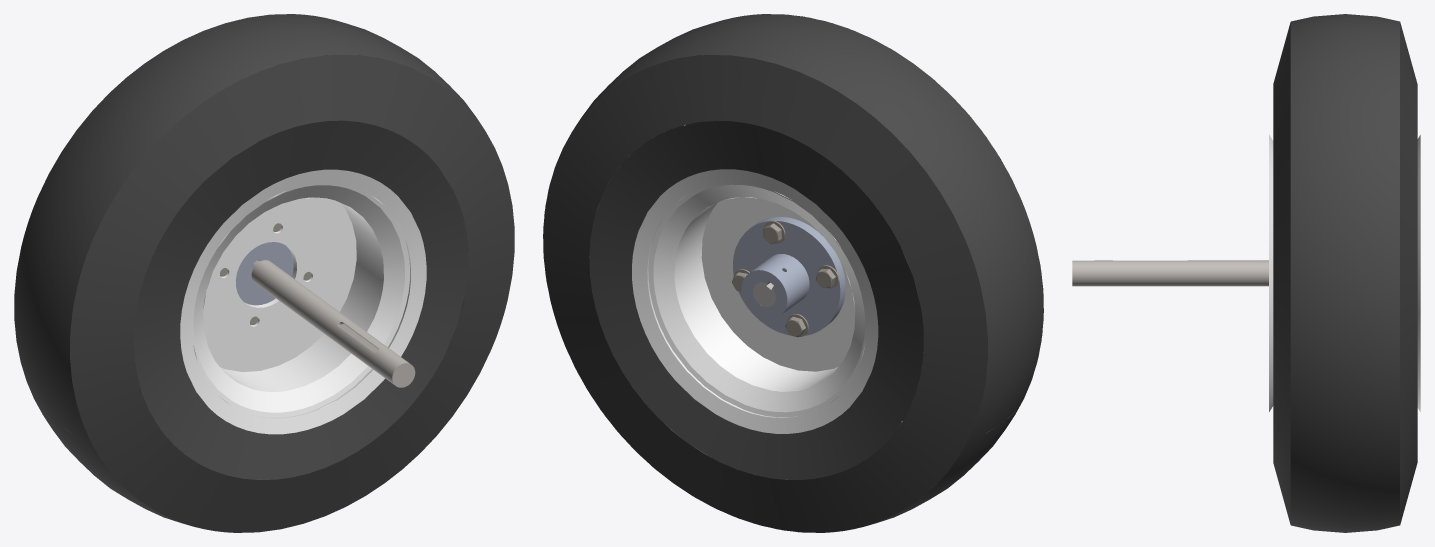
File: back_left_wheel_link.DAE
3 views of the same model, side by side, from view 1: azimuth 30°, elevation 25°; view 2: azimuth 150°, elevation 25°; view 3: azimuth 270°, elevation 25° (orthographic).
Visible parts, largest first — view 1: Revolution1_2_-DC_Shell, Revolution1_1_-DC_Shell, Mirror1-DC_Shell, Extrusion4-DC_Shell, Cut-Extrude4-DC_Shell; view 2: Revolution1_2_-DC_Shell, Revolution1_1_-DC_Shell, Mirror1-DC_Shell, Cut-Extrude4-DC_Shell; view 3: Revolution1_2_-DC_Shell, Revolution1_1_-DC_Shell, Extrusion4-DC_Shell, Mirror1-DC_Shell.
Part boxes in pixels (box(x1,y1,x2,y2)): Revolution1_2_-DC_Shell: box(14, 14, 494, 439); Revolution1_1_-DC_Shell: box(35, 135, 514, 532); Mirror1-DC_Shell: box(180, 169, 426, 434); Extrusion4-DC_Shell: box(251, 260, 415, 387); Cut-Extrude4-DC_Shell: box(235, 242, 293, 305); Revolution1_2_-DC_Shell: box(563, 14, 1043, 439); Revolution1_1_-DC_Shell: box(543, 146, 1022, 532); Mirror1-DC_Shell: box(632, 169, 878, 433); Cut-Extrude4-DC_Shell: box(733, 217, 845, 335); Revolution1_2_-DC_Shell: box(1273, 14, 1417, 275); Revolution1_1_-DC_Shell: box(1273, 275, 1417, 532); Extrusion4-DC_Shell: box(1072, 260, 1268, 286); Mirror1-DC_Shell: box(1269, 135, 1420, 411).
Bounding box in the file's own units: 14.93 × 10.03 × 14.93.
